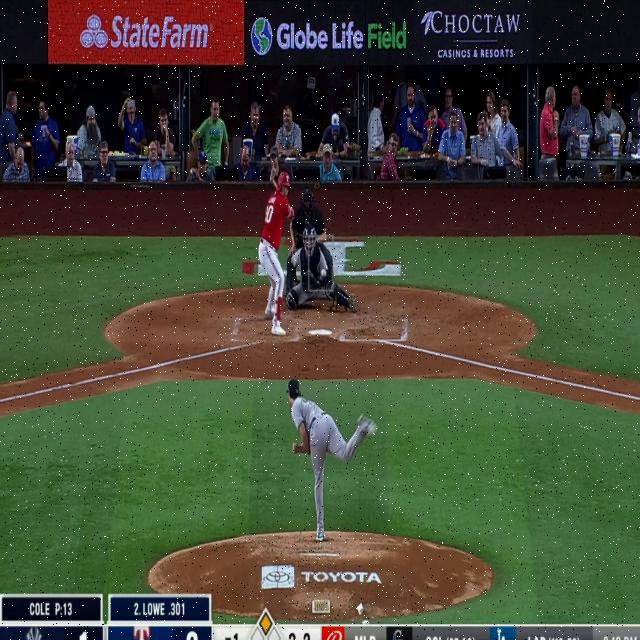baseball: (321, 268, 327, 278)
